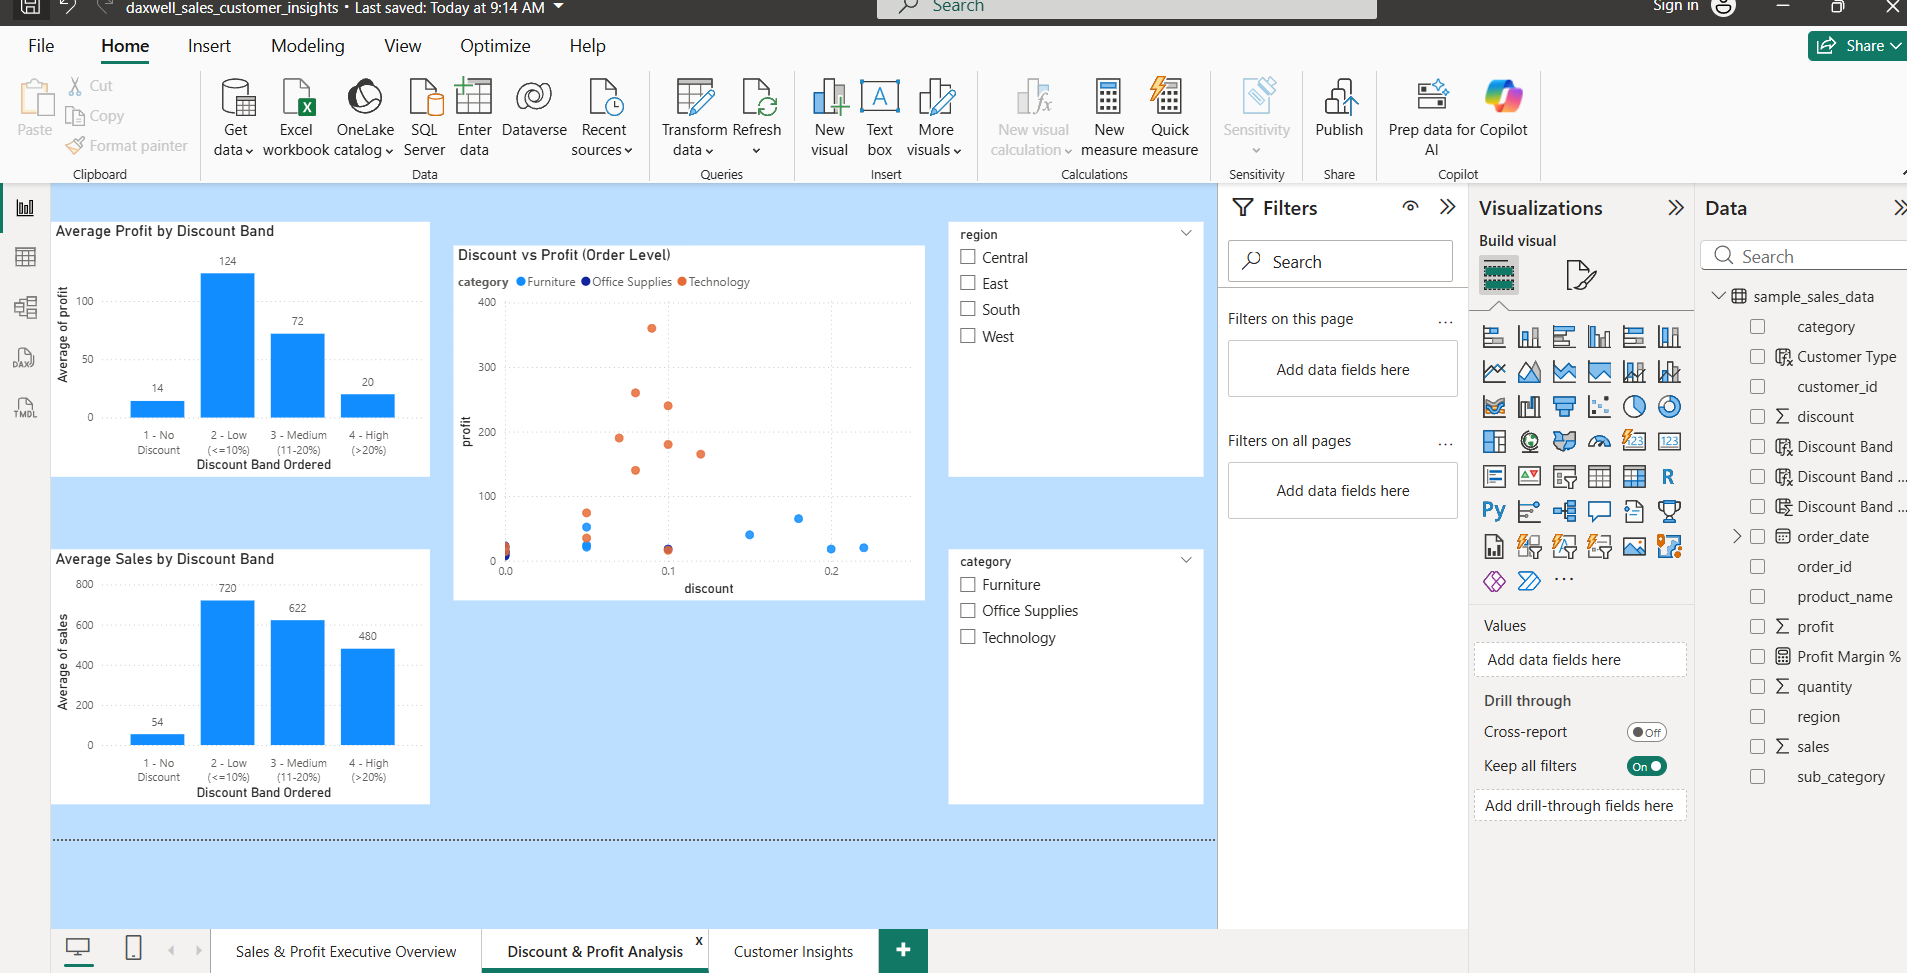

This screenshot's page, from the dashboard's own definition file:
{"tool":"powerbi","page":{"name":"Discount & Profit Analysis","canvas":[1280,720],"ordinal":1},"visuals":[{"type":"clusteredColumnChart","title":"Average Profit by Discount Band","fields":{"Y":["Avg(sample_sales_data.profit)"],"Category":["sample_sales_data.Discount Band Ordered"]},"box":[0,42.5,415.8,279.9],"z":0},{"type":"clusteredColumnChart","title":"Average Sales by Discount Band","fields":{"Y":["Avg(sample_sales_data.sales)"],"Category":["sample_sales_data.Discount Band Ordered"]},"box":[0,402.1,415.8,279.9],"z":1000},{"type":"scatterChart","title":"Discount vs Profit (Order Level)","fields":{"X":["sample_sales_data.discount"],"Y":["sample_sales_data.profit"],"Series":["sample_sales_data.category"]},"box":[441.9,68.6,517.3,389.7],"z":1001},{"type":"slicer","fields":{"Values":["sample_sales_data.region"]},"box":[985.3,42.5,279.9,279.9],"z":1002},{"type":"slicer","fields":{"Values":["sample_sales_data.category"]},"box":[985.3,402.1,279.9,279.9],"z":1003}]}

Visuals, with their boxes on the page's 1280x720 design canvas (x1, y1, x2, y2). These are canvas units, not pixel positions in the 1907x973 screenshot, which may show the page scaled, cropped or inside an application window:
"Average Profit by Discount Band" clusteredColumnChart: (left=0, top=42, right=416, bottom=322)
"Average Sales by Discount Band" clusteredColumnChart: (left=0, top=402, right=416, bottom=682)
"Discount vs Profit (Order Level)" scatterChart: (left=442, top=69, right=959, bottom=458)
slicer - sample_sales_data.region: (left=985, top=42, right=1265, bottom=322)
slicer - sample_sales_data.category: (left=985, top=402, right=1265, bottom=682)
